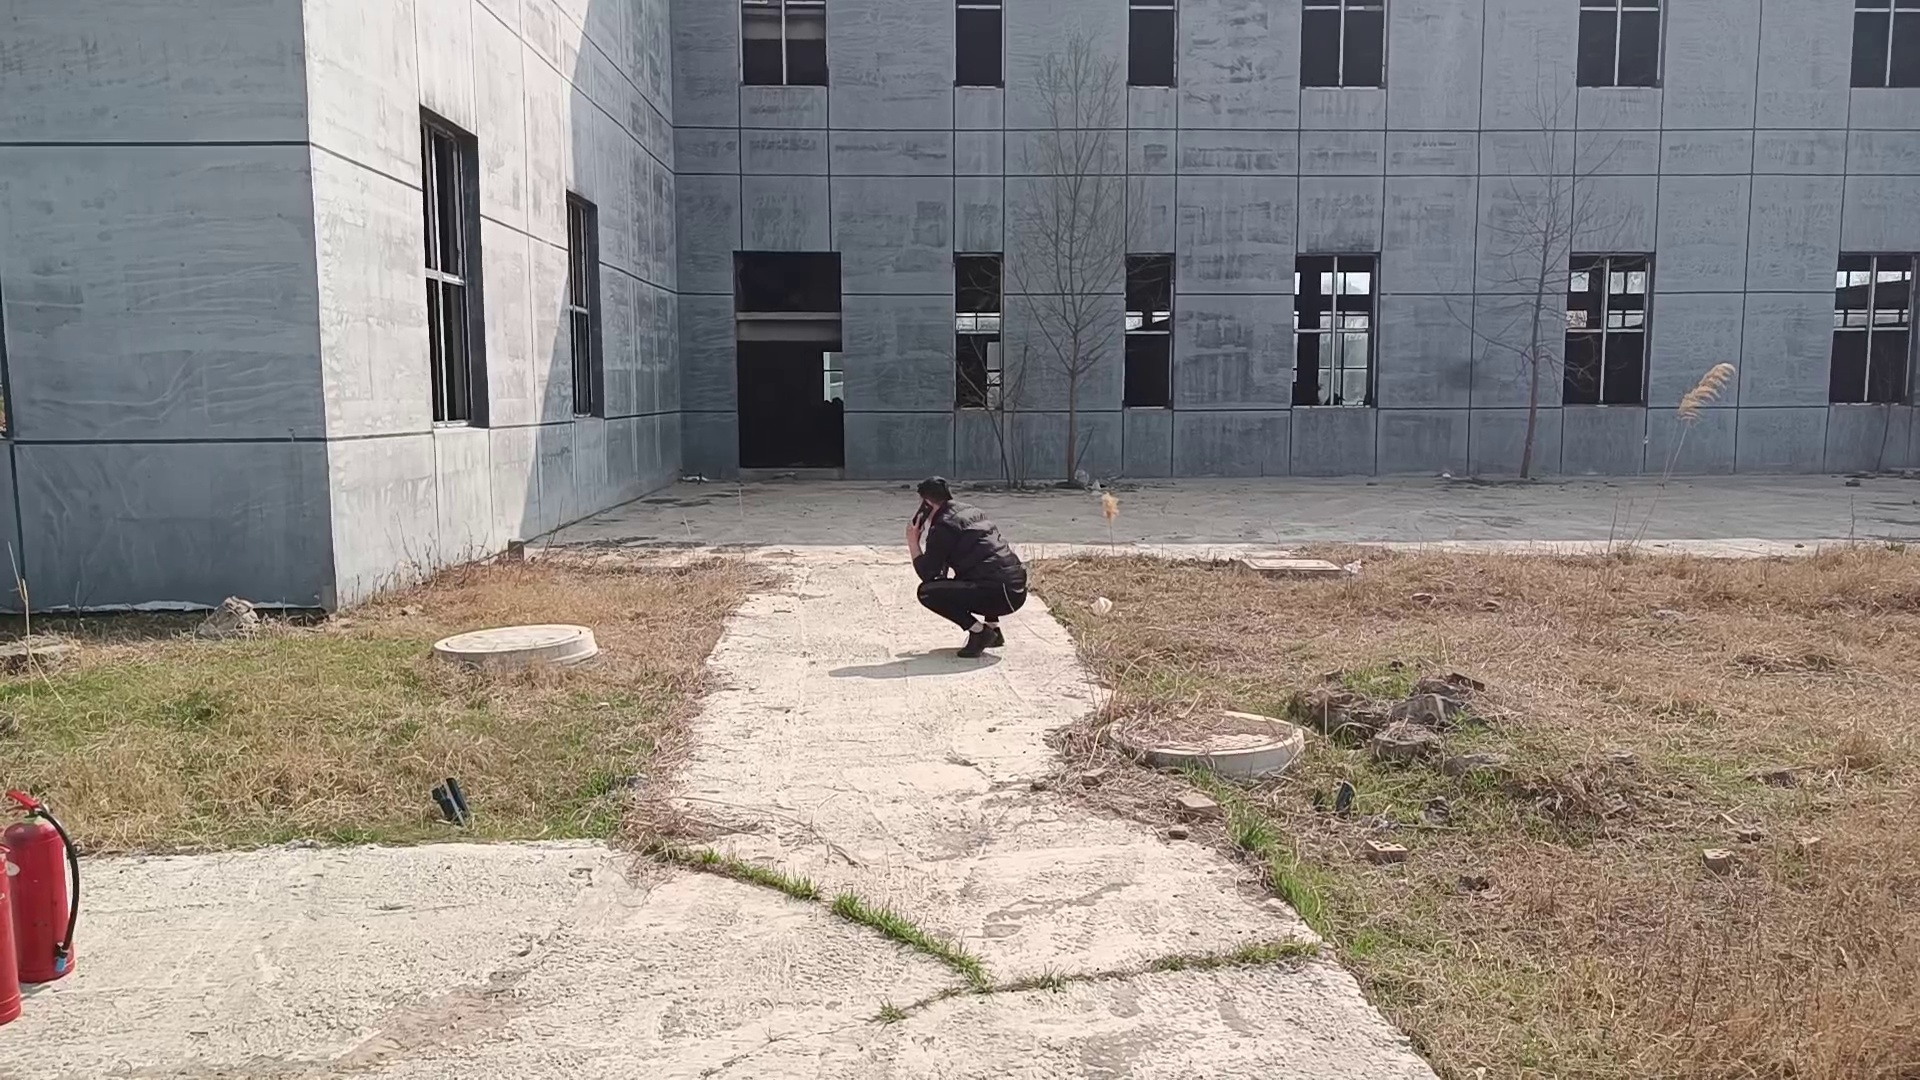phone: (909, 464, 960, 534)
